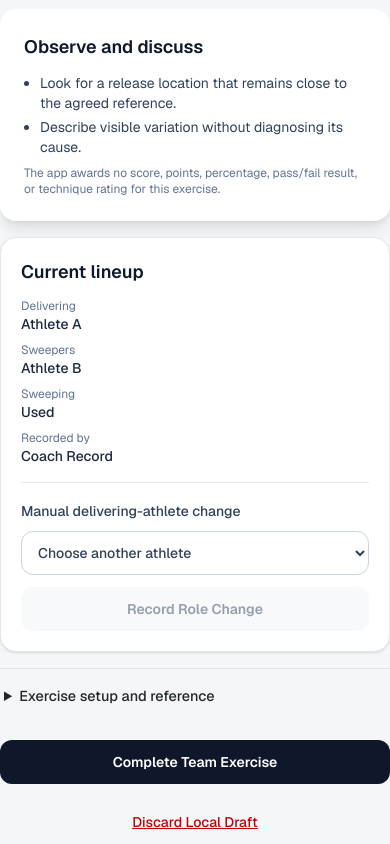
Test: ExerciseTeamExecutionScreen › requires explicit confirmation before discarding the local draft
(page scrolled)
Click the button "Discard Local Draft" at (195, 822), box [0,800,389,843]
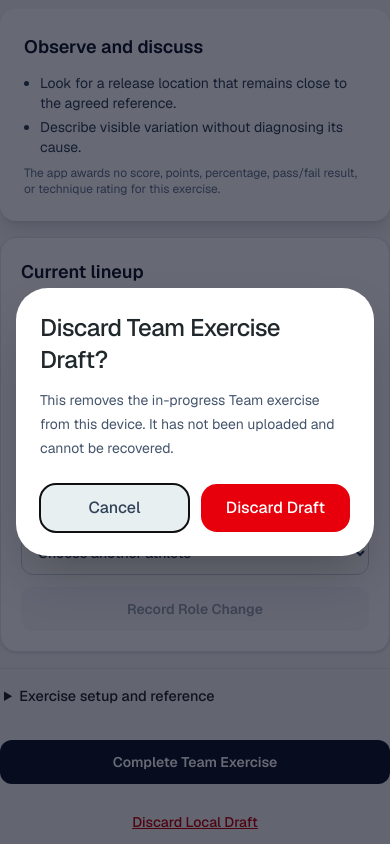
Result: the dialog shows "cannot be recovered" at [40,391,335,457]
Click the button "Cancel" at (114, 508), box [40,484,189,532]
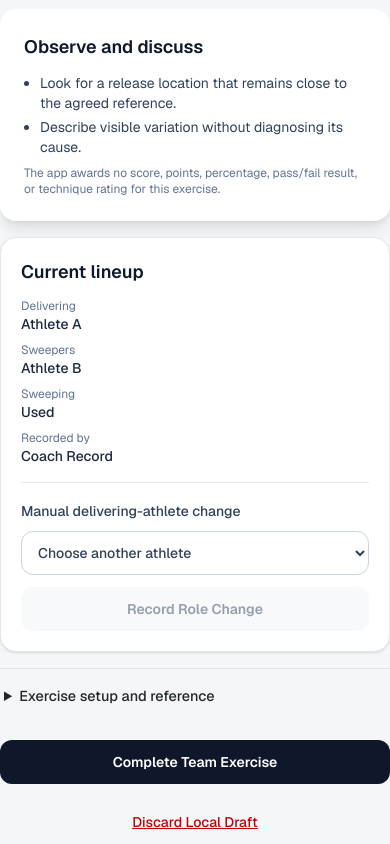
Result: the dialog is gone
